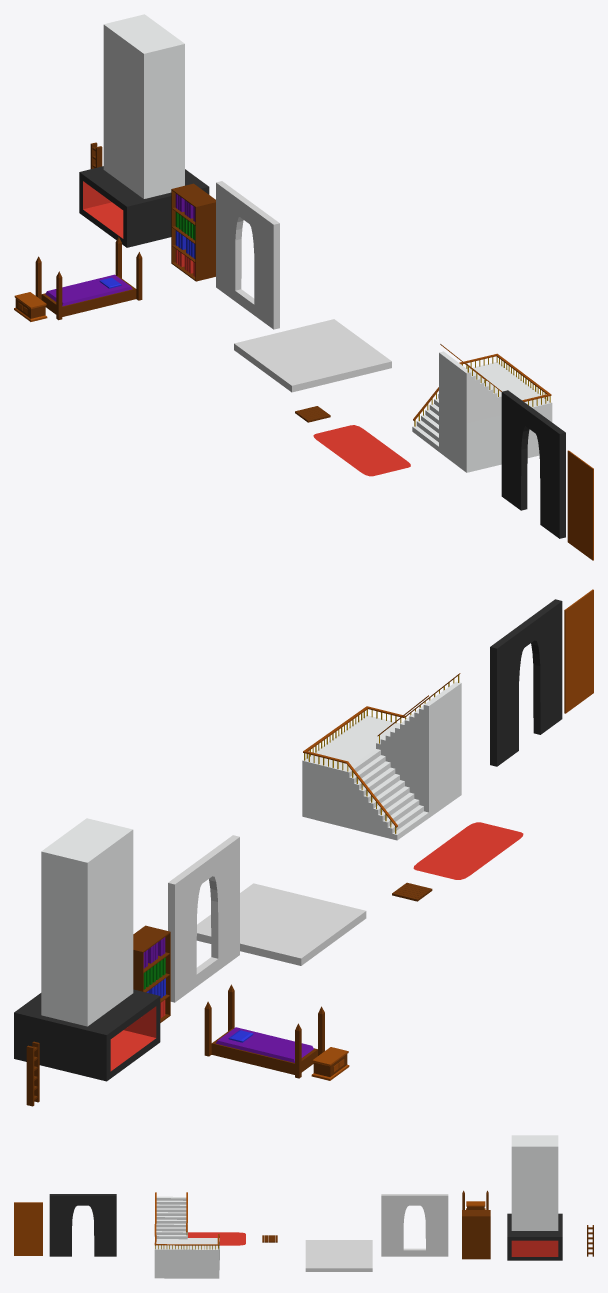
Rendered from Models.fbx.
The picture shows the model from 3 angles, top to bottom: view 1: azimuth 30°, elevation 25°; view 2: azimuth 150°, elevation 25°; view 3: azimuth 270°, elevation 25°; orthographic projection. The views are drawn at different scales.
Parts seen in each view (by area): view 1: Cube.005, Pillars, Cube.006, window.001, window.002, Bookshelf, Cube.001, Plane.001, Cube.007, Cube; view 2: Cube.005, Pillars, window.001, window.002, Cube.006, Cube.001, Plane.001, Cube.007, Bookshelf, Cube, ladder; view 3: Cube.005, Pillars, window.001, window.002, Cube.006, Cube.007, Bookshelf, Plane.001.
Part boxes in pixels (<box>): Cube.005: <box>79,14,209,247</box>; Pillars: <box>412,344,552,472</box>; Cube.006: <box>234,319,391,392</box>; window.001: <box>216,181,279,329</box>; window.002: <box>501,390,565,538</box>; Bookshelf: <box>171,183,215,281</box>; Cube.001: <box>35,237,142,320</box>; Plane.001: <box>313,425,410,476</box>; Cube.007: <box>567,450,593,560</box>; Cube: <box>14,292,47,321</box>; Cube.005: <box>14,818,160,1081</box>; Pillars: <box>302,673,461,840</box>; window.001: <box>168,835,239,1002</box>; window.002: <box>490,599,562,766</box>; Cube.006: <box>196,883,366,965</box>; Cube.001: <box>204,984,324,1078</box>; Plane.001: <box>413,822,523,879</box>; Cube.007: <box>564,589,593,713</box>; Bookshelf: <box>133,925,170,1022</box>; Cube: <box>311,1047,349,1080</box>; ladder: <box>26,1041,39,1106</box>; Cube.005: <box>507,1135,562,1260</box>; Pillars: <box>154,1192,219,1278</box>; window.001: <box>381,1194,448,1256</box>; window.002: <box>49,1194,116,1256</box>; Cube.006: <box>305,1240,372,1271</box>; Cube.007: <box>14,1202,42,1255</box>; Bookshelf: <box>462,1210,490,1259</box>; Plane.001: <box>188,1232,245,1245</box>.
Bounding box in the file's own units: 2538 × 8644 × 1947.
